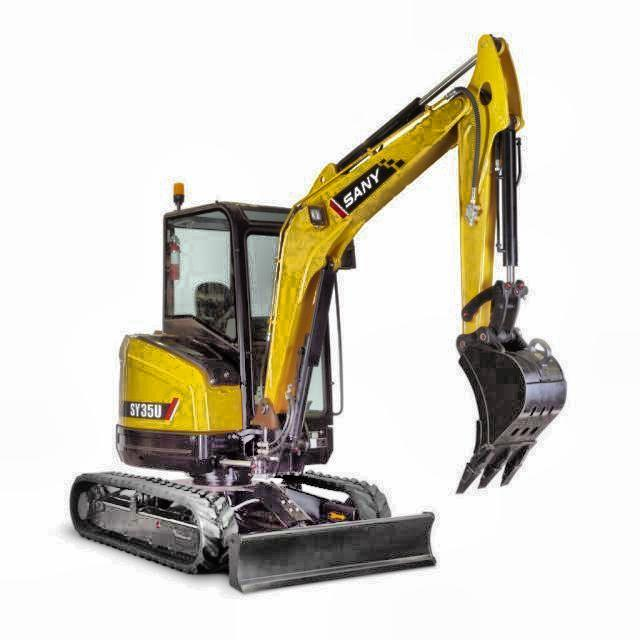excavator: (68, 29, 571, 594)
